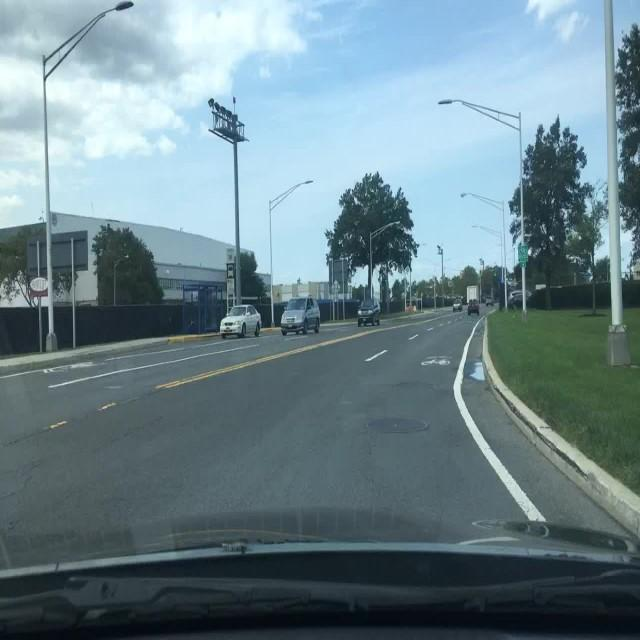normal: (199, 266, 449, 367)
